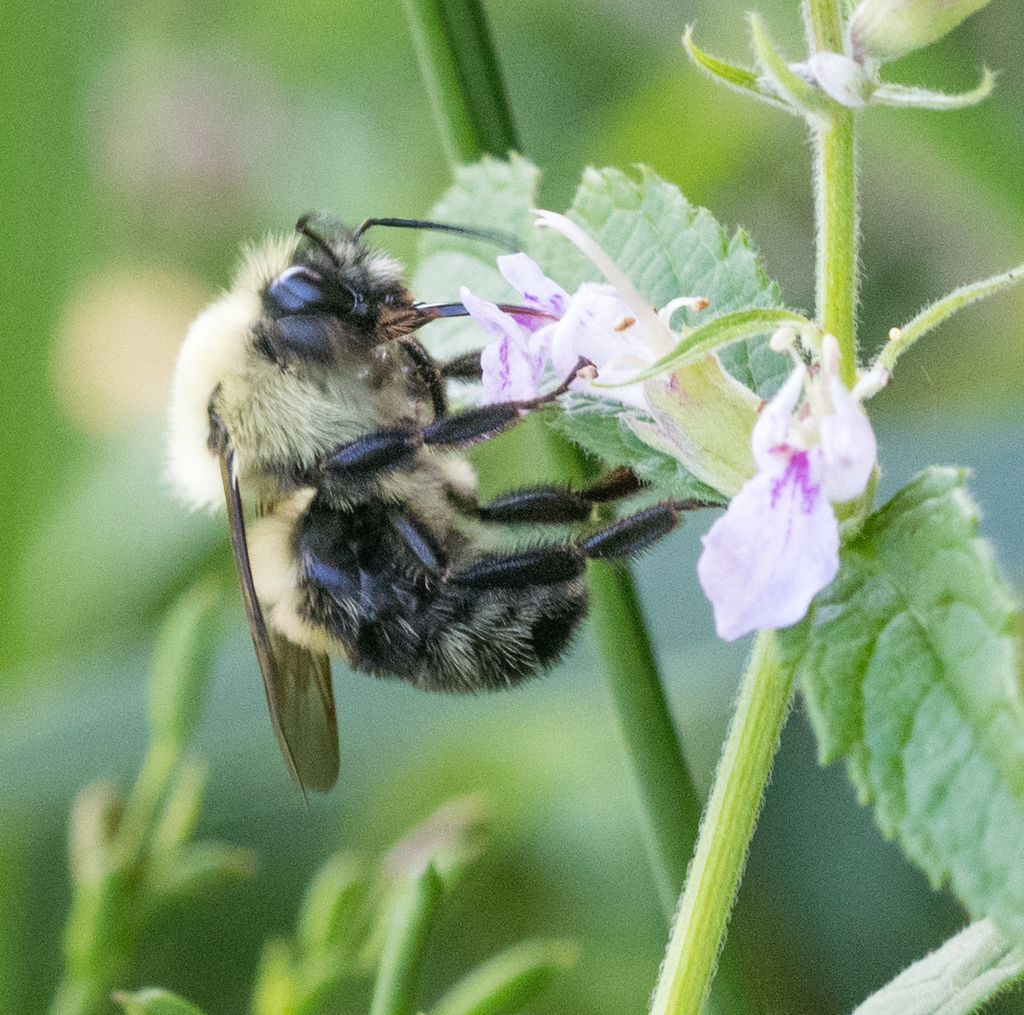bumblebee: (164, 210, 731, 819)
